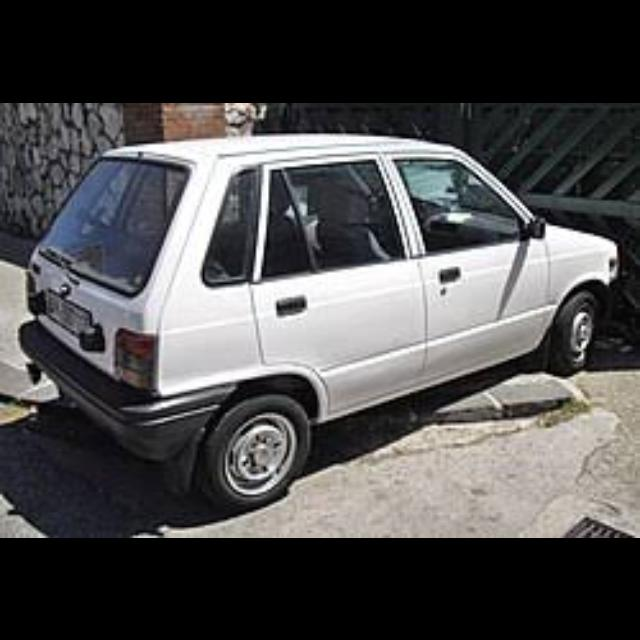vehicles: (18, 134, 624, 506)
